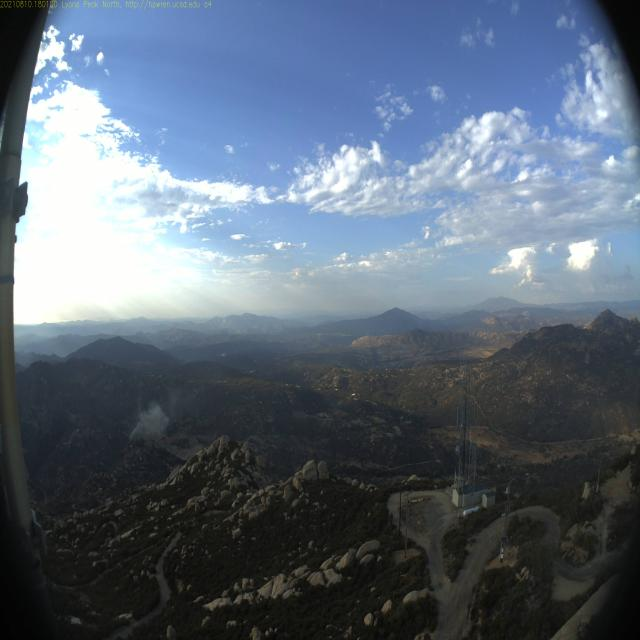smoke: (160, 333, 214, 423), (129, 400, 170, 442)
